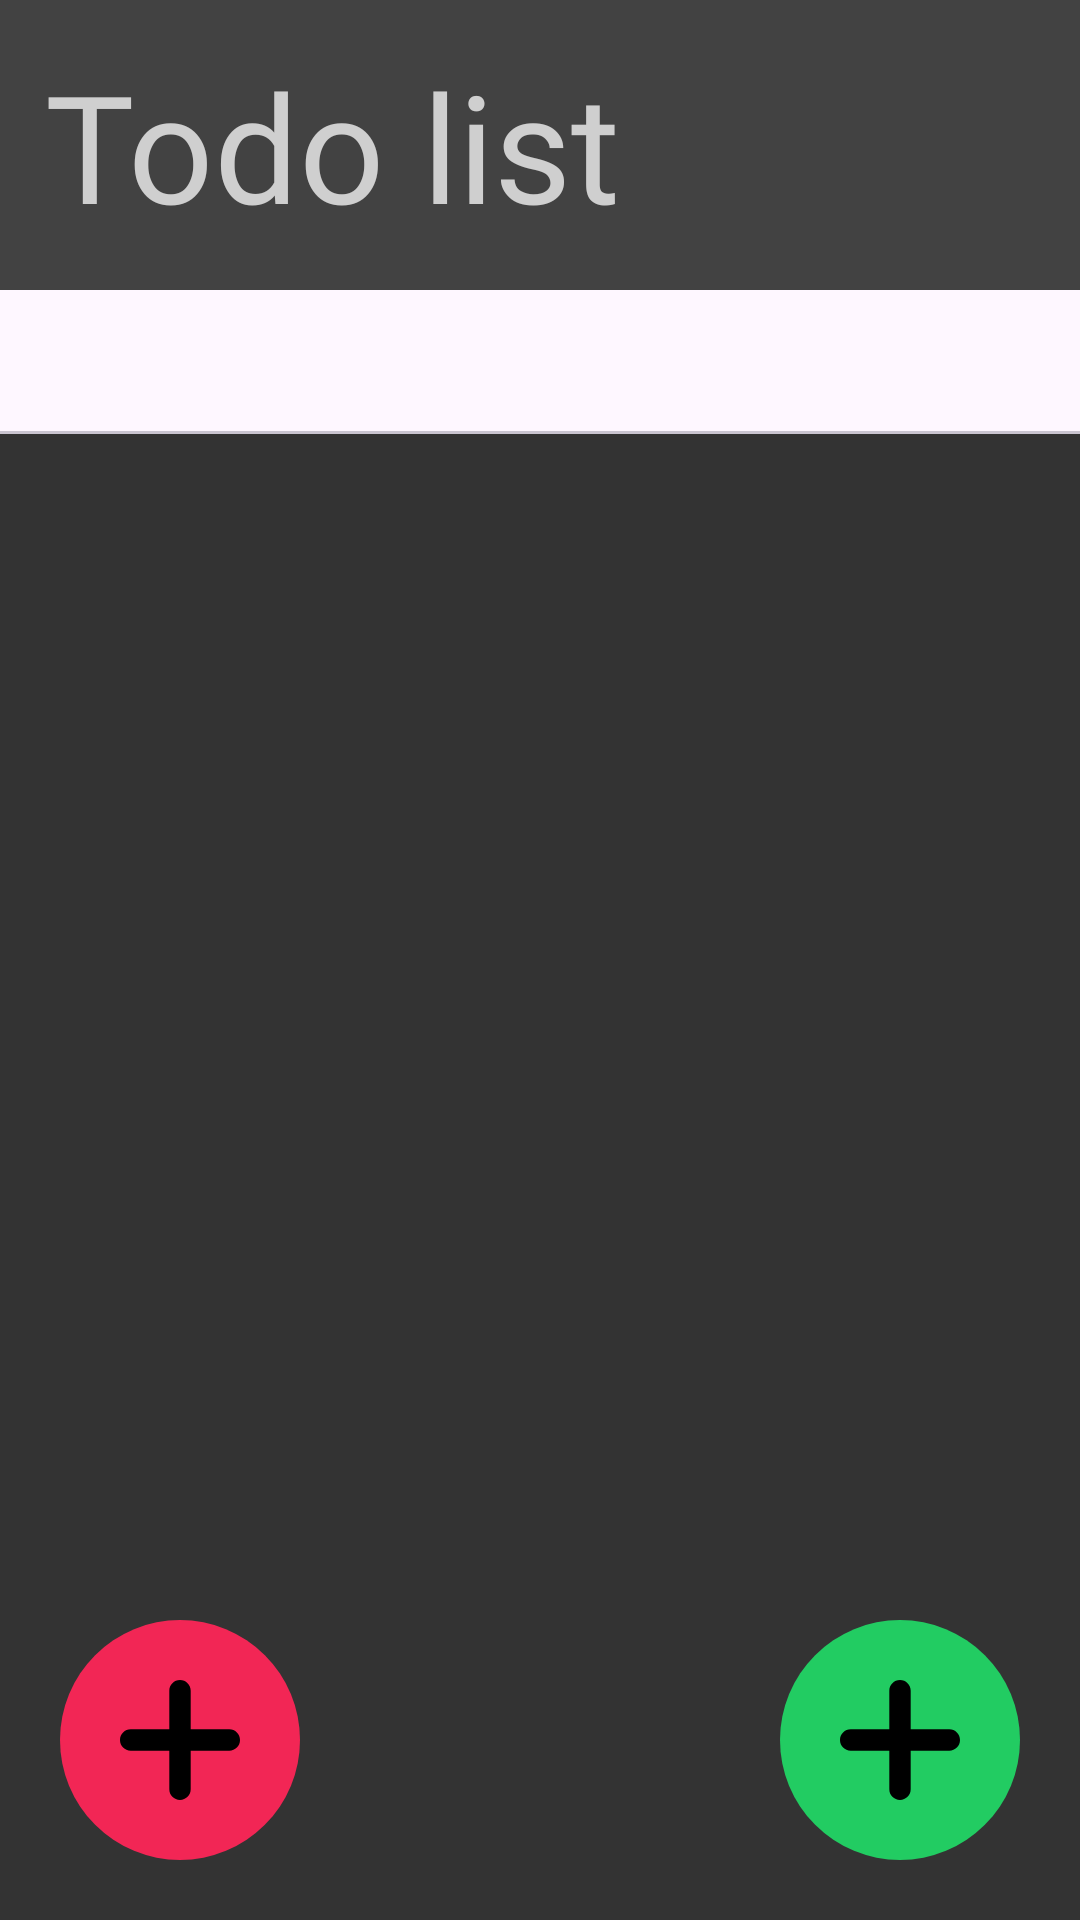

Icon bounding boxes for this 1080x1920 phone screenshot, format (x1, y1, x2, y2):
plus: (60, 1620, 300, 1860), (780, 1620, 1020, 1860)
